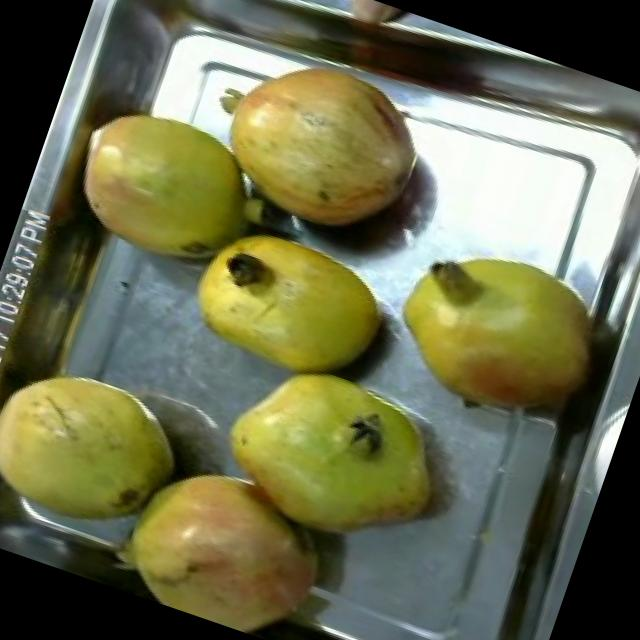fruit: (184, 330, 478, 582), (178, 22, 450, 262), (85, 422, 374, 640), (364, 215, 626, 452), (156, 196, 408, 409), (49, 80, 288, 296), (0, 333, 207, 561)
